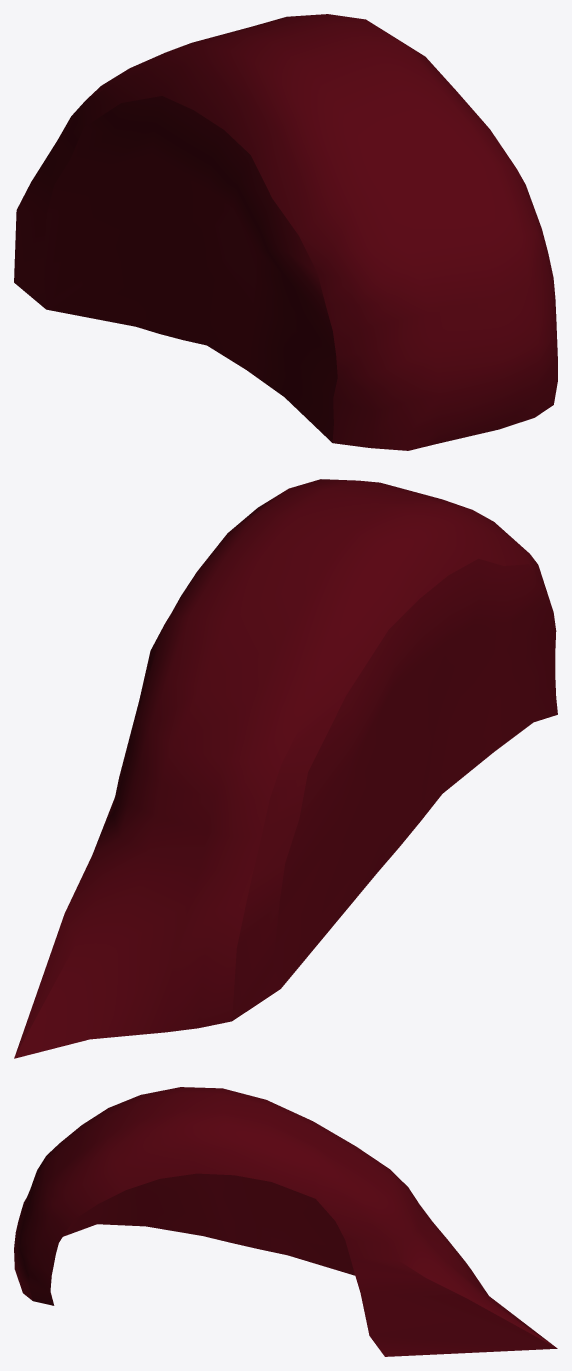
The model's file is NashTT.ArcFL.glb.
3 renders of one model, top to bottom at view 1: azimuth 30°, elevation 25°; view 2: azimuth 150°, elevation 25°; view 3: azimuth 270°, elevation 25°, orthographic. The views are drawn at different scales.
Visible parts, largest first — view 1: Cube.f.001; view 2: Cube.f.001; view 3: Cube.f.001.
Boxes of the visible parts, left/top/right/bottom form: Cube.f.001: left=14, top=14, right=557, bottom=450; Cube.f.001: left=14, top=479, right=557, bottom=1058; Cube.f.001: left=14, top=1087, right=557, bottom=1356.
Size of the model in its own units: 0.8314 by 1.25 by 2.67.
